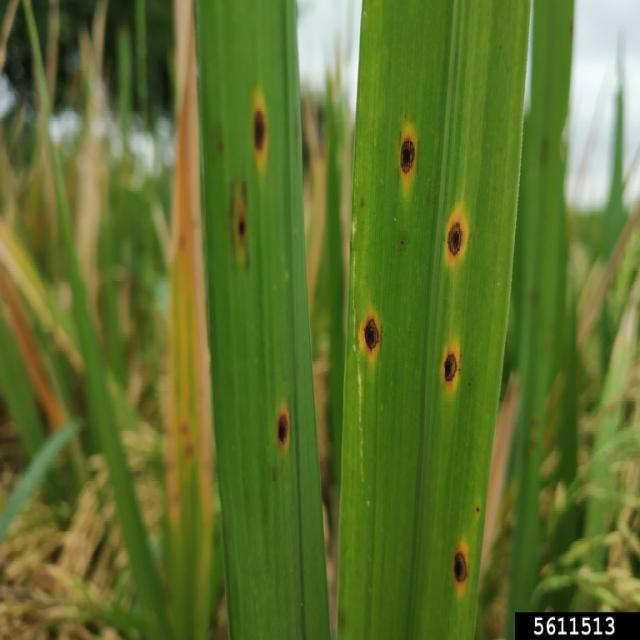Brown spot: (222, 177, 268, 270), (236, 86, 283, 166), (390, 112, 422, 198), (442, 199, 472, 280), (358, 298, 390, 358), (446, 533, 476, 597), (440, 332, 466, 398), (268, 393, 296, 453), (475, 498, 484, 519)
